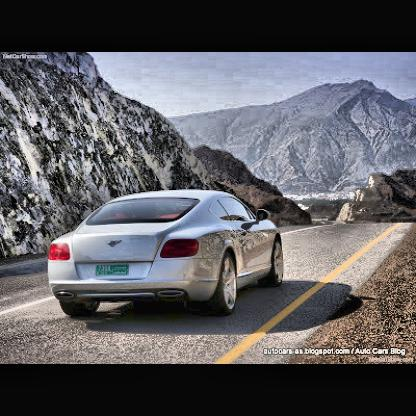Bentley Continental GT Coupe 2012: (47, 189, 287, 322)
